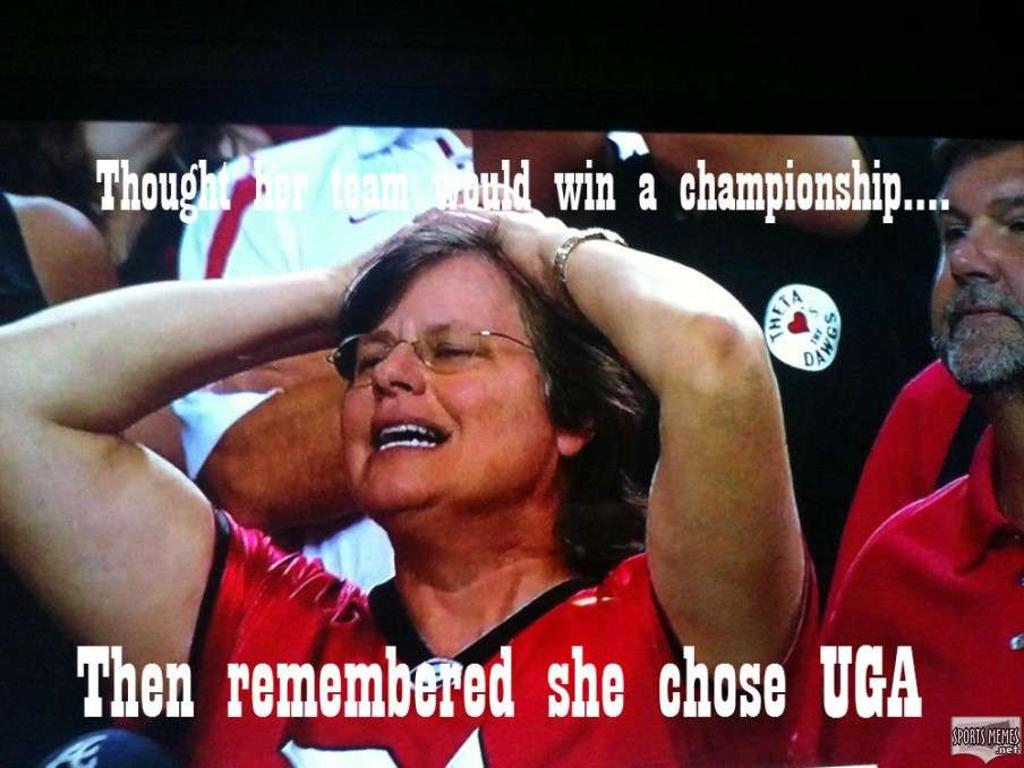face: (338, 266, 562, 510), (924, 164, 1024, 386)
